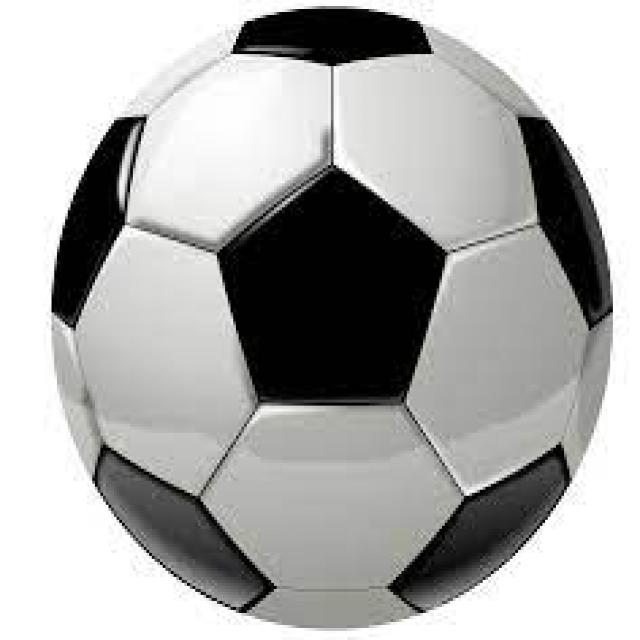ball: (51, 6, 612, 629)
